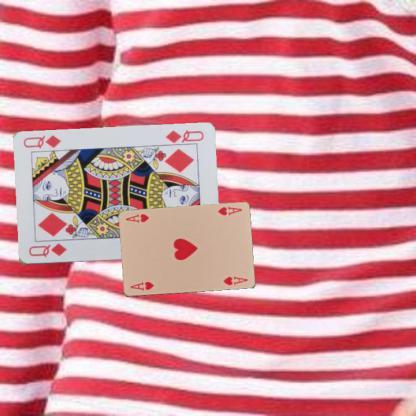Ah: (128, 278, 155, 292), (214, 204, 244, 216)
Qd: (160, 128, 206, 148), (26, 241, 68, 259)
